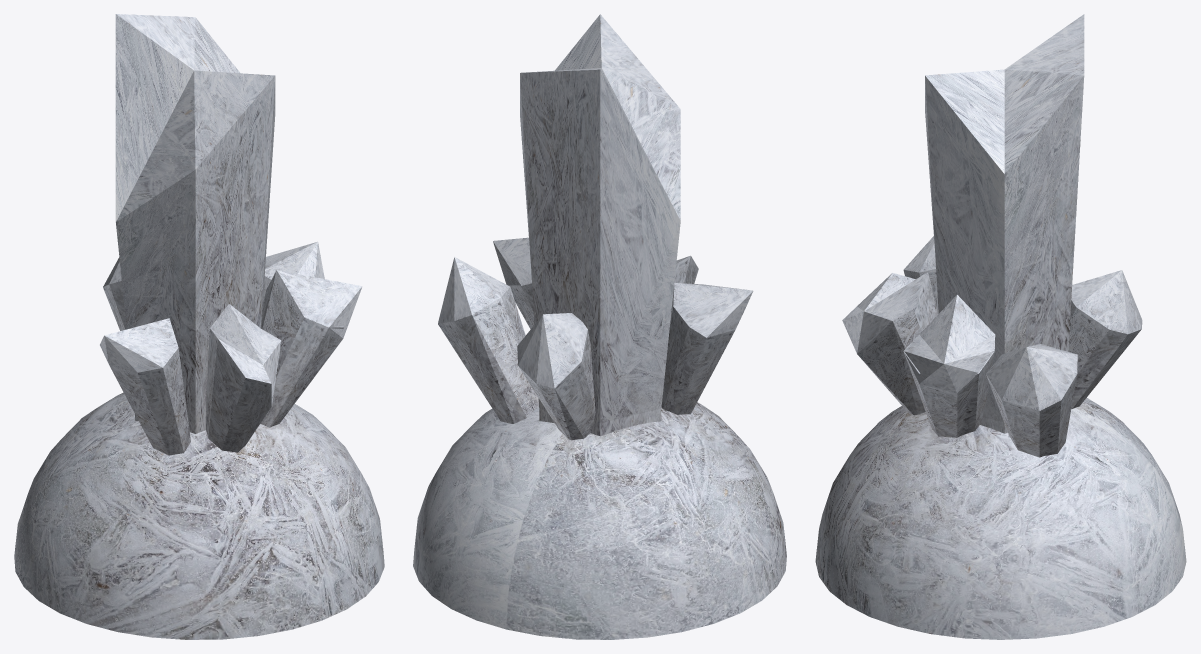
File: LampLight_3DAsset_BlueCrystalCracked.FBX
3 views of the same model, side by side, from view 1: azimuth 30°, elevation 25°; view 2: azimuth 150°, elevation 25°; view 3: azimuth 270°, elevation 25° (orthographic).
Visible parts, largest first — view 1: LampLight_Crystal_Base002, LampLight_BlueCracked, Crystal026, Crystal022, Crystal027, Crystal023, Crystal021; view 2: LampLight_Crystal_Base002, LampLight_BlueCracked, Crystal023, Crystal027, Crystal021, Crystal026, Crystal022, Crystal025; view 3: LampLight_Crystal_Base002, LampLight_BlueCracked, Crystal023, Crystal026, Crystal022, Crystal021, Crystal025, Crystal027.
Boxes of the visible parts, bbox=[...] form: LampLight_Crystal_Base002: bbox=[14, 392, 384, 639]; LampLight_BlueCracked: bbox=[115, 14, 275, 433]; Crystal026: bbox=[260, 270, 362, 427]; Crystal022: bbox=[206, 304, 281, 452]; Crystal027: bbox=[100, 318, 190, 455]; Crystal023: bbox=[263, 241, 324, 302]; Crystal021: bbox=[103, 257, 126, 330]; LampLight_Crystal_Base002: bbox=[413, 402, 786, 639]; LampLight_BlueCracked: bbox=[520, 14, 680, 436]; Crystal023: bbox=[438, 257, 538, 423]; Crystal027: bbox=[661, 282, 753, 414]; Crystal021: bbox=[517, 313, 595, 440]; Crystal026: bbox=[493, 237, 533, 310]; Crystal022: bbox=[674, 255, 698, 283]; Crystal025: bbox=[509, 283, 534, 329]; LampLight_Crystal_Base002: bbox=[815, 398, 1186, 639]; LampLight_BlueCracked: bbox=[925, 14, 1084, 433]; Crystal023: bbox=[986, 343, 1077, 457]; Crystal026: bbox=[904, 294, 994, 437]; Crystal022: bbox=[842, 272, 937, 415]; Crystal021: bbox=[1068, 270, 1142, 408]; Crystal025: bbox=[903, 335, 995, 436]; Crystal027: bbox=[903, 236, 938, 314].
Size of the model in its own units: 43.45 by 68.1 by 43.45.
